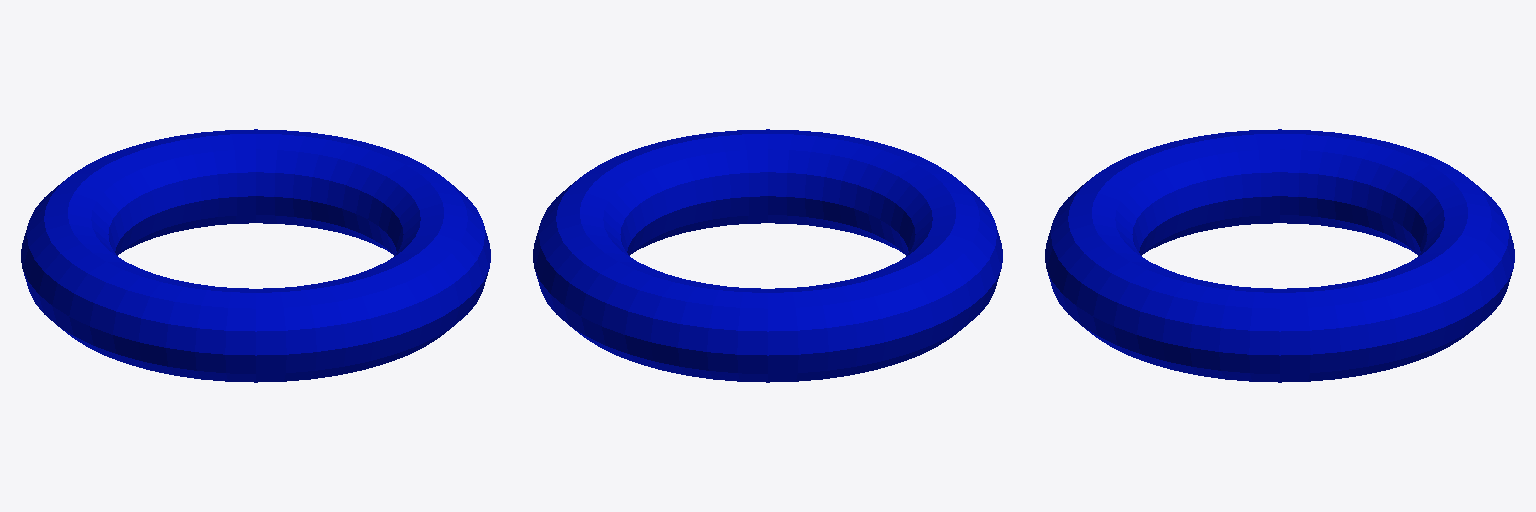
File: sample.obj
3 views of the same model, side by side, from view 1: azimuth 30°, elevation 25°; view 2: azimuth 150°, elevation 25°; view 3: azimuth 270°, elevation 25° (orthographic).
Parts seen in each view (by area): view 1: トーラス; view 2: トーラス; view 3: トーラス.
Boxes of the visible parts, <box> form: トーラス: <box>21,129,490,382</box>; トーラス: <box>533,129,1002,382</box>; トーラス: <box>1045,129,1514,382</box>.
Size of the model in its own units: 2.5 by 0.5 by 2.5.